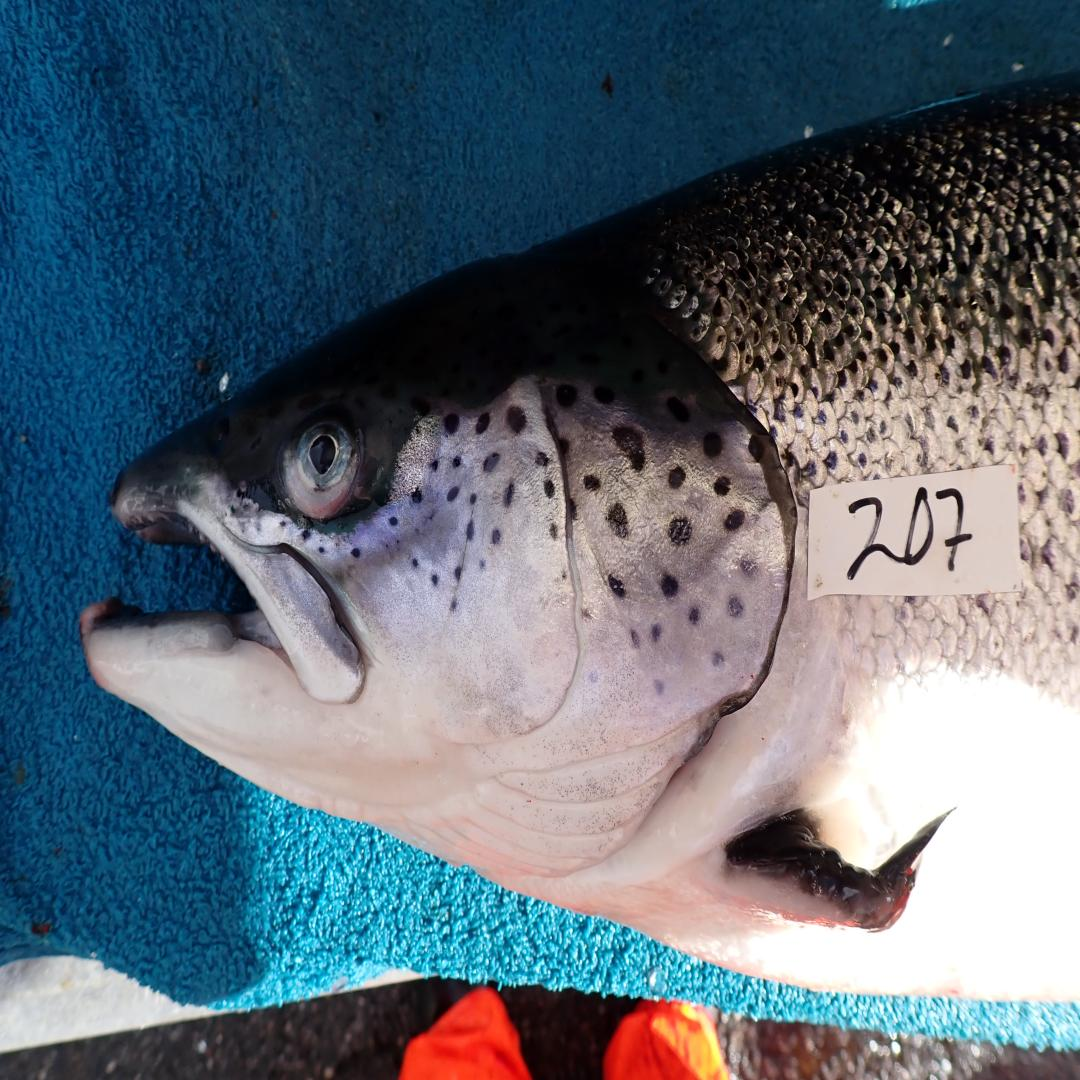roi: (359, 375, 795, 880)
